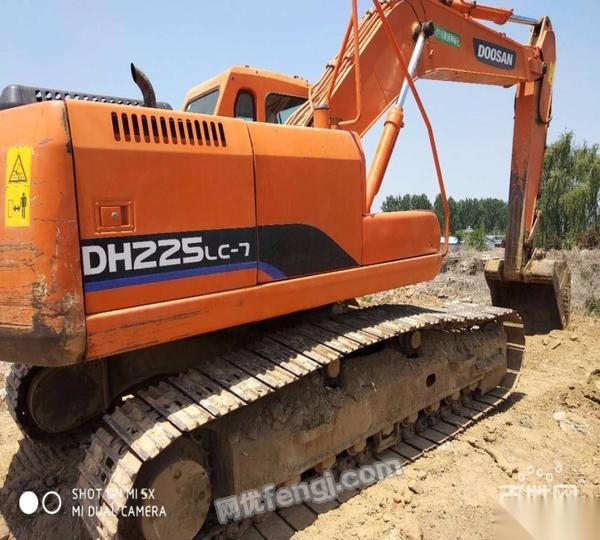excavator: (1, 2, 589, 540)
